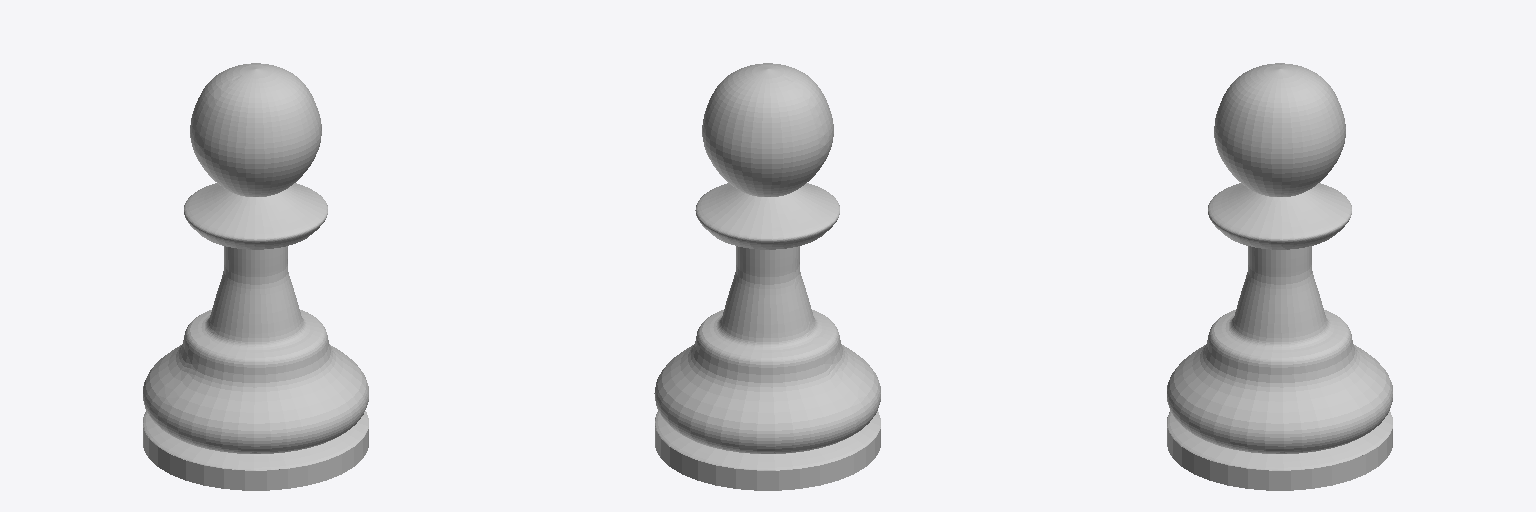
File: pawn_white.obj
3 views of the same model, side by side, from view 1: azimuth 30°, elevation 25°; view 2: azimuth 150°, elevation 25°; view 3: azimuth 270°, elevation 25° (orthographic).
Parts seen in each view (by area): view 1: Bryła1; view 2: Bryła1; view 3: Bryła1.
Part boxes in pixels (left/top/right/bottom): Bryła1: left=143, top=63, right=368, bottom=490; Bryła1: left=654, top=63, right=880, bottom=490; Bryła1: left=1167, top=63, right=1392, bottom=490.
Size of the model in its own units: 3.05 by 5.55 by 3.05.